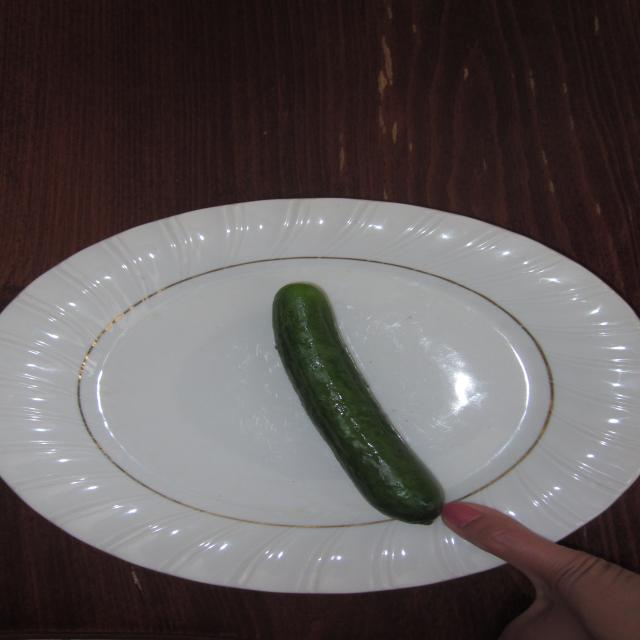cucumber: (259, 280, 448, 529)
